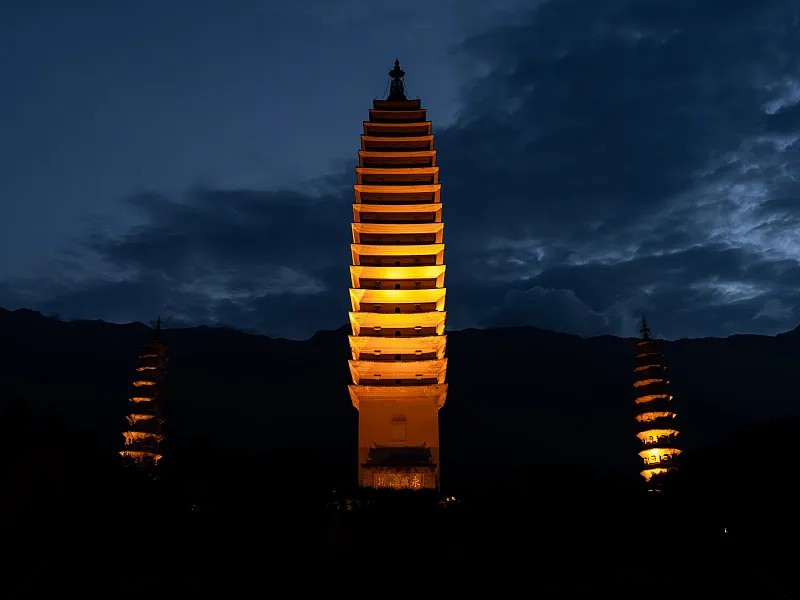ThreePagoda: (349, 58, 447, 489)
